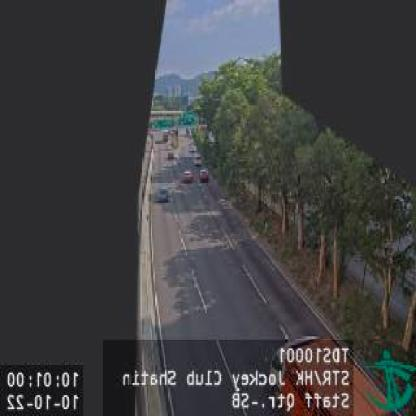Car: (158, 182, 170, 201), (198, 166, 208, 179), (182, 169, 192, 180)
